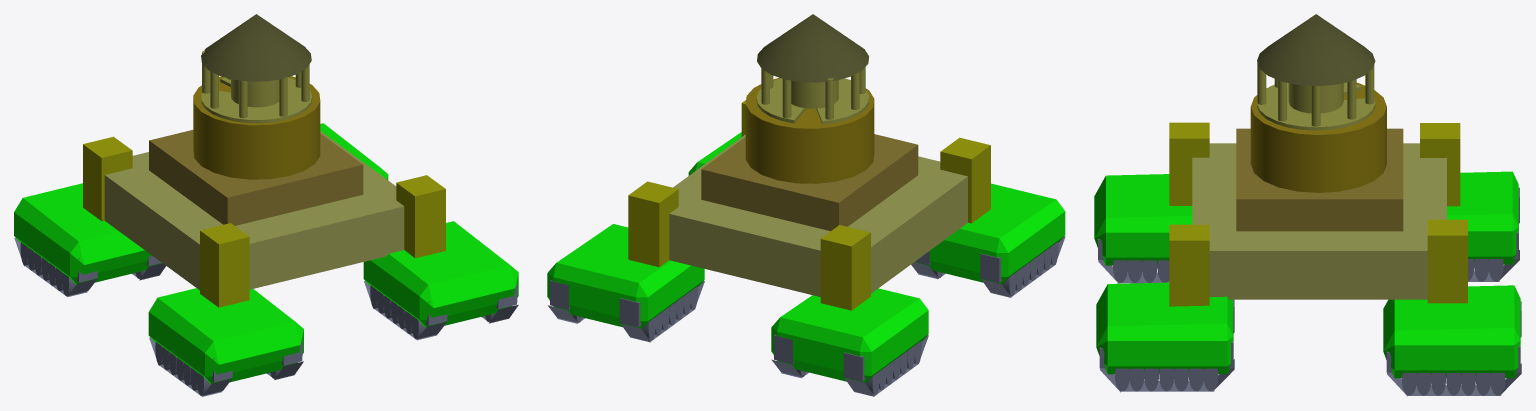
The model's file is Boss.fbx.
3 renders of one model, left to right at view 1: azimuth 30°, elevation 25°; view 2: azimuth 150°, elevation 25°; view 3: azimuth 270°, elevation 25°, orthographic. The views are drawn at different scales.
Visible parts, largest first — view 1: boss; view 2: boss; view 3: boss.
Part boxes in pixels (x1,y1,x2,y2): boss: (14,14,518,396); boss: (547,14,1065,396); boss: (1094,14,1521,396).
Size of the model in its own units: 341 by 287 by 372.
